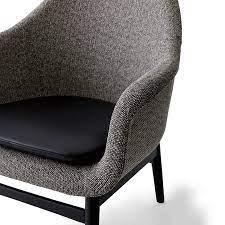chair: (5, 2, 177, 215)
